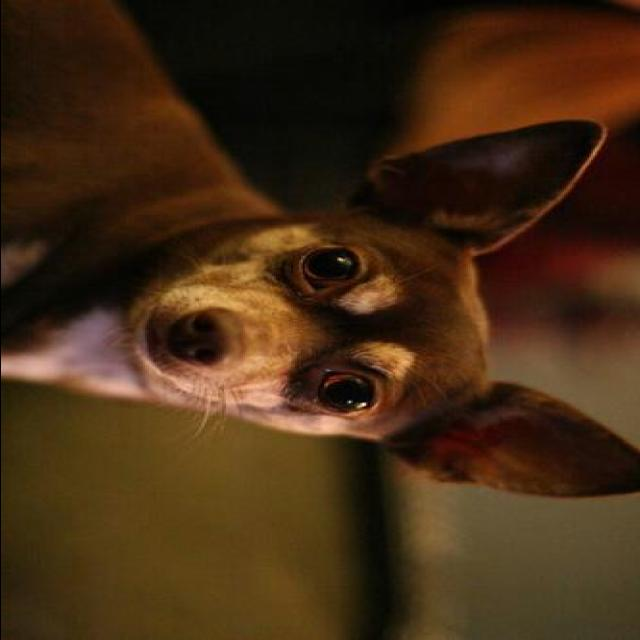chihuahua: (4, 2, 638, 498)
